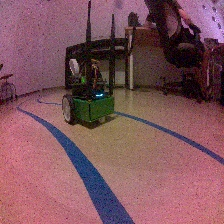rob: (61, 58, 115, 124)
